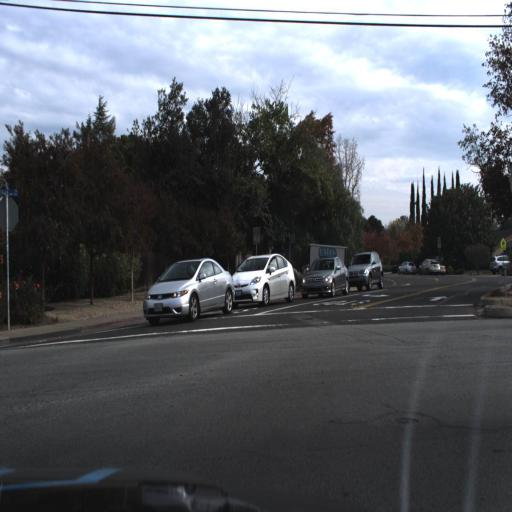car: (139, 257, 234, 326), (231, 249, 298, 310), (301, 253, 351, 303), (345, 247, 386, 293), (419, 256, 444, 276), (395, 257, 415, 276)
